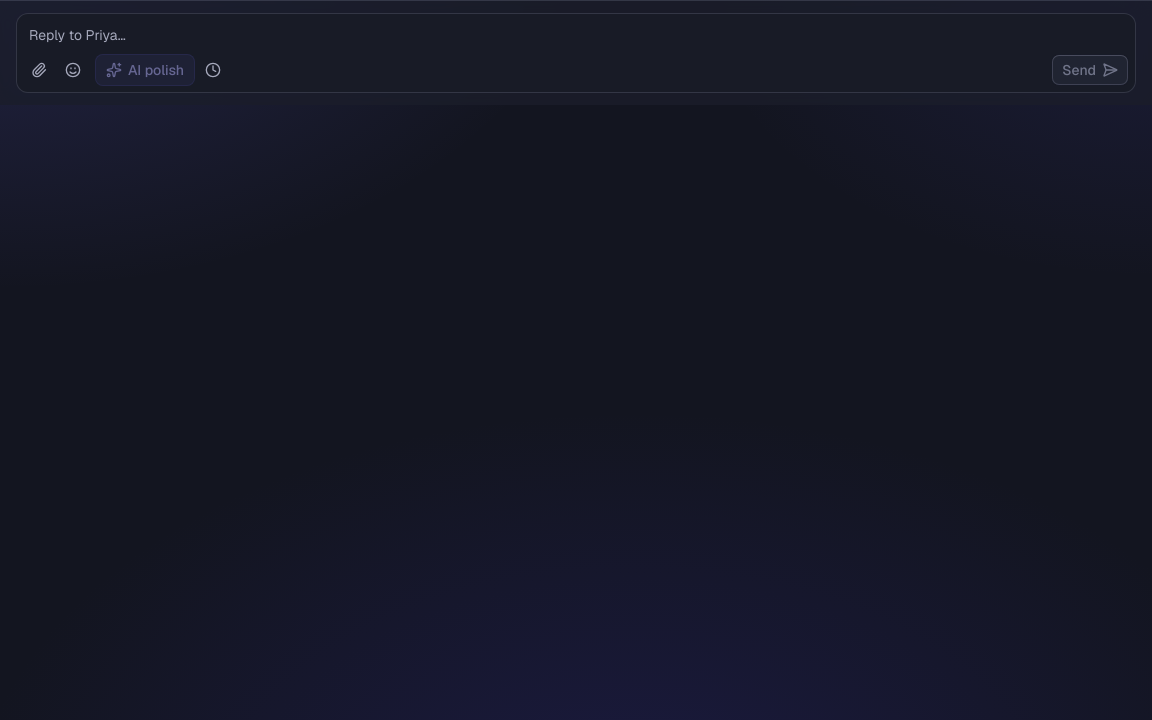
Test case: Composer (UX-INB-07) › Send: neutral and disabled while empty, the primary Button once there is text
This screenshot has width=1152, height=720.
Type "Yes" into the text box named "Reply to Priya Nair" at (576, 34), box [17,14,1135,54]
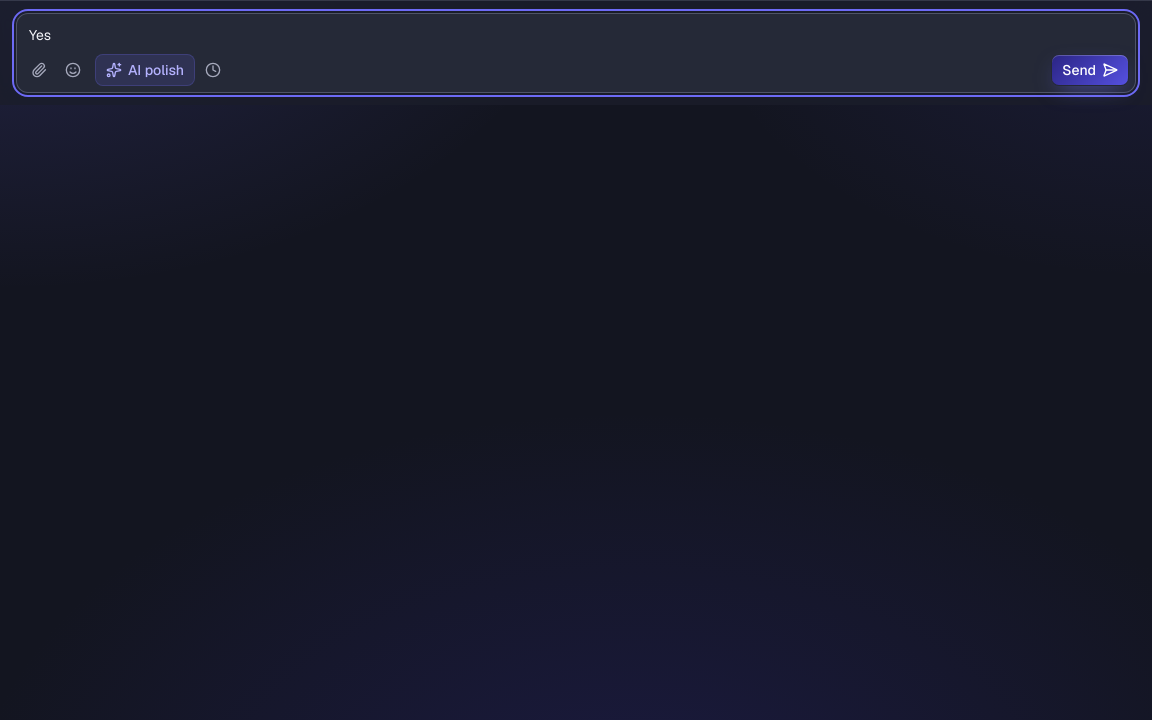
Expected: the button "Send" is enabled, [1051,54,1129,86]
